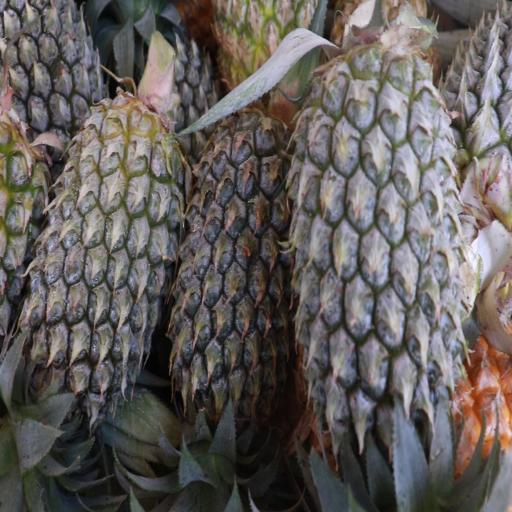------------------------------: (215, 0, 325, 113)
